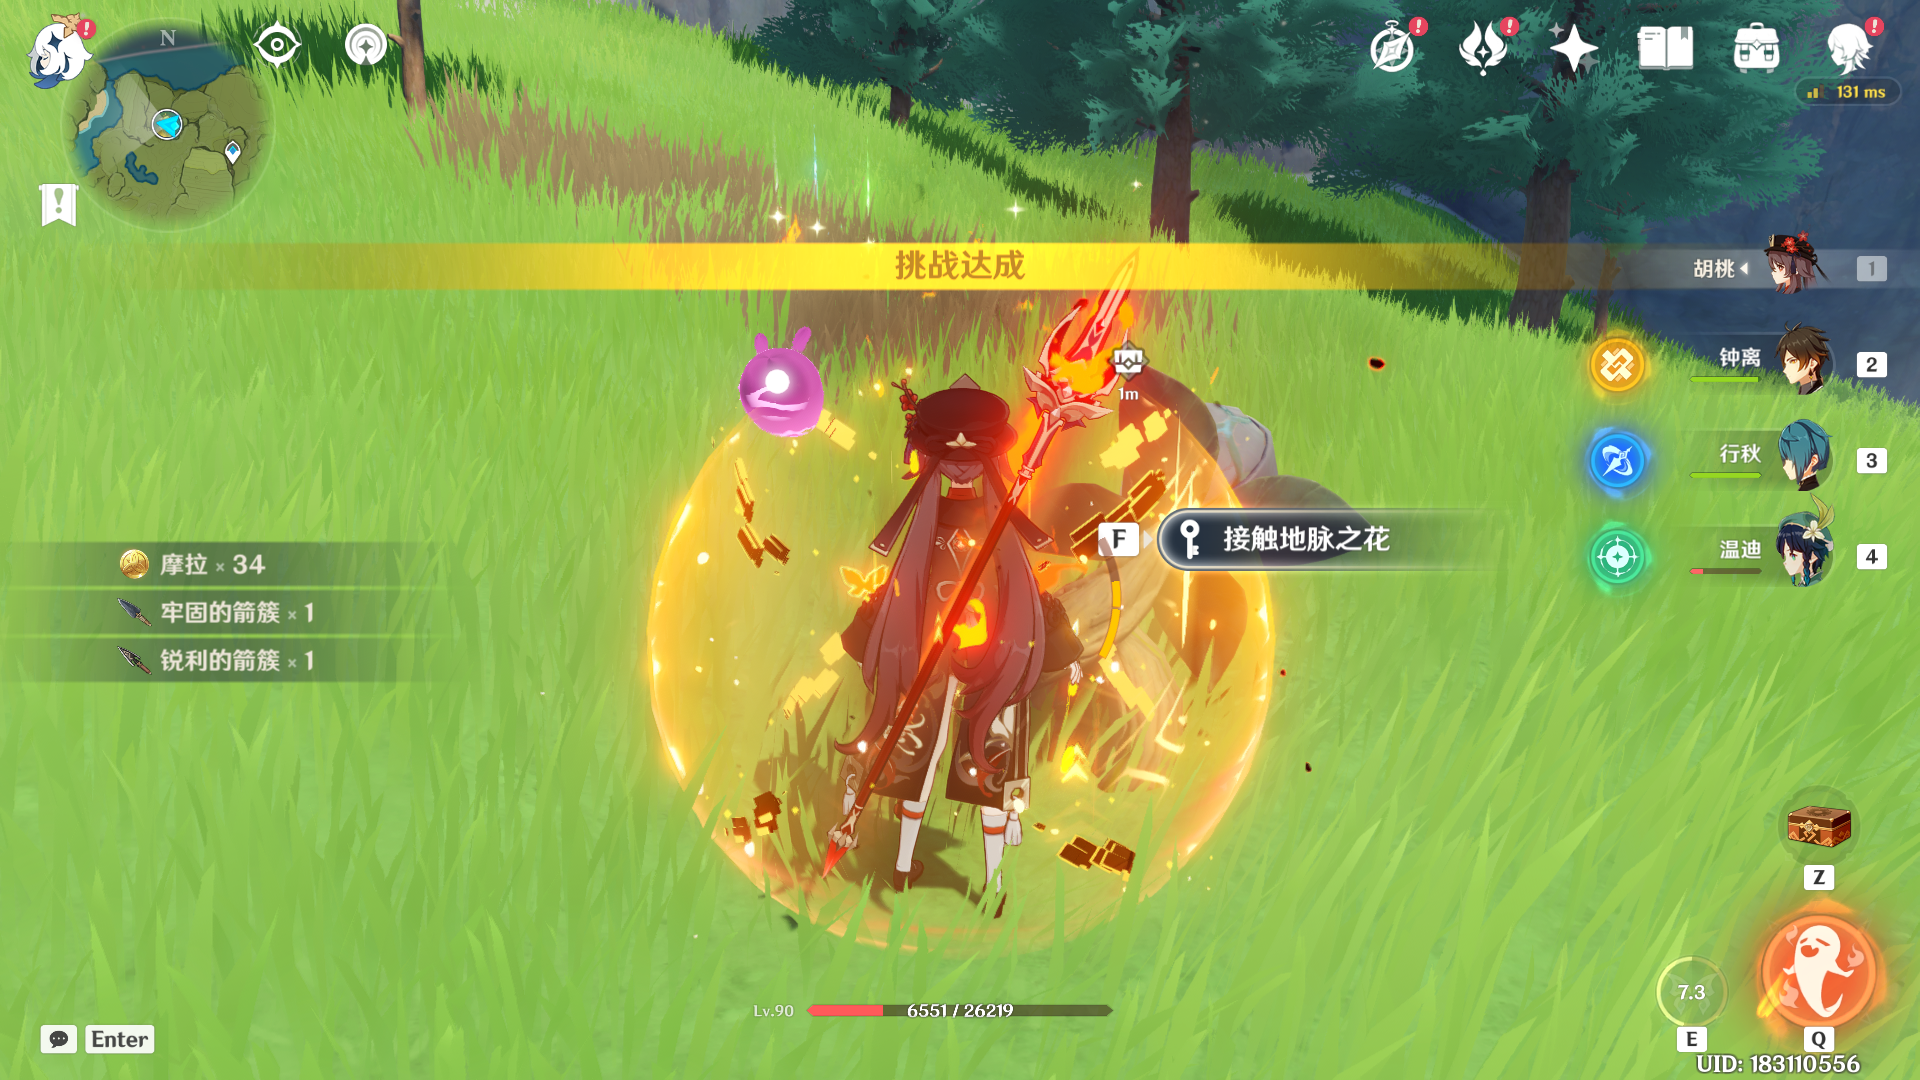character: (773, 363, 1130, 942)
